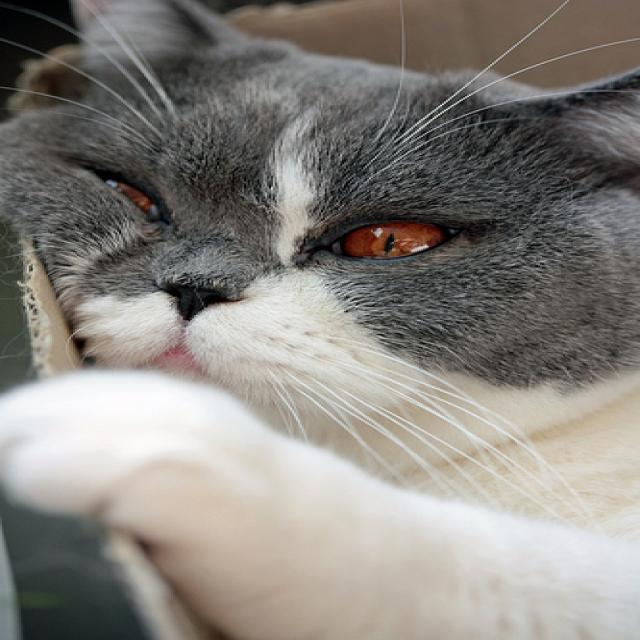British_Shorthair: (2, 0, 640, 447)
